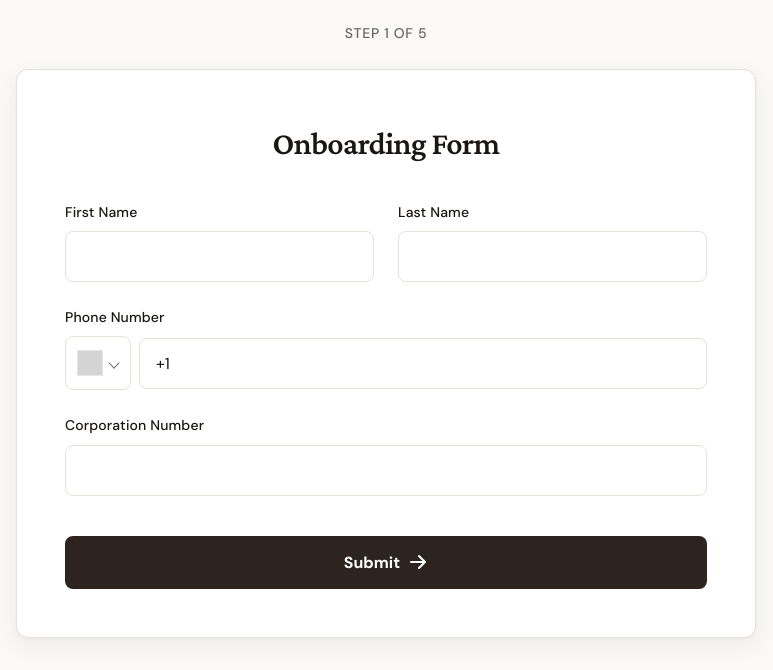
Test: OnboardingForm › 04 - validates phone number format
Note: Type invalid phone number
Type "1234567890" into the field labelled "Phone Number" at point(423, 364), box [139,338,707,389]
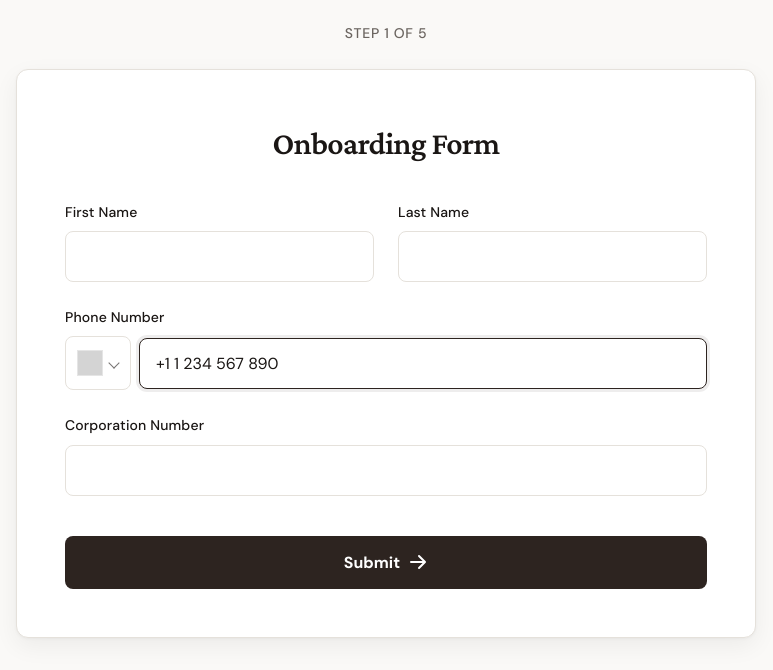
Press Tab
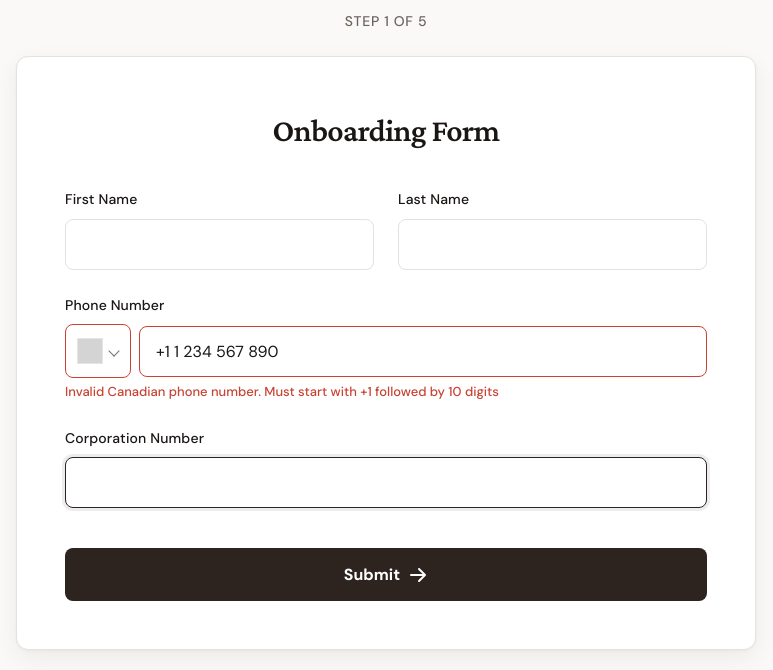
Now the text "Invalid Canadian phone number. Must start with +1 followed by 10 digits" is shown, box [65,383,499,400]
